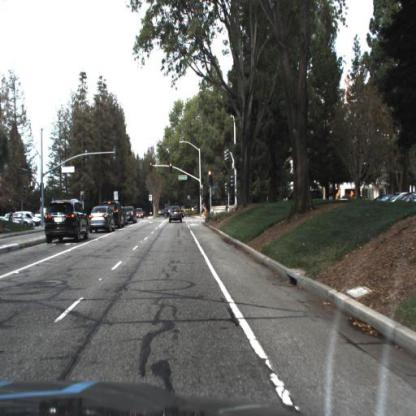car: (43, 198, 92, 247), (87, 204, 116, 234), (104, 203, 127, 227), (168, 203, 186, 225), (122, 205, 138, 223)
trafficLight-Red: (208, 170, 215, 188), (169, 161, 174, 177)
